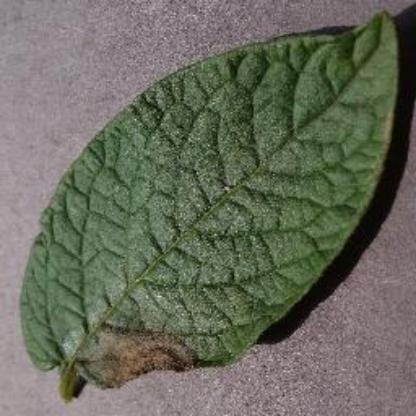Late-Blight: (19, 16, 409, 394)
